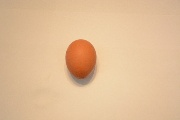egg: (65, 38, 96, 80)
